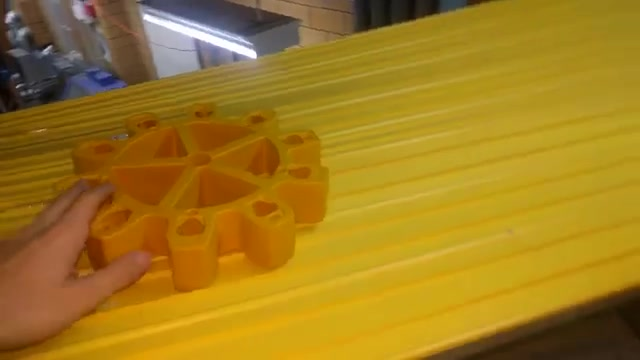gear: (49, 100, 341, 301)
